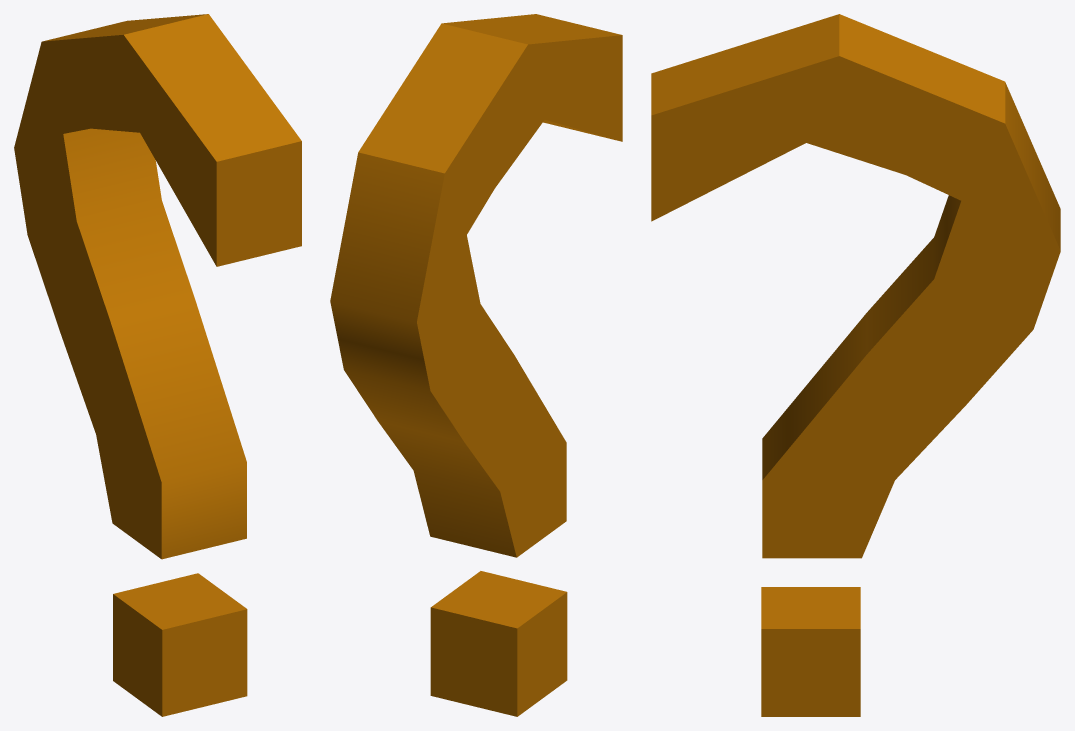
Rendered from Random.fbx.
3 views of the same model, side by side, from view 1: azimuth 30°, elevation 25°; view 2: azimuth 150°, elevation 25°; view 3: azimuth 270°, elevation 25° (orthographic).
Visible parts, largest first — view 1: Random; view 2: Random; view 3: Random.
Part boxes in pixels (x1,y1,x2,y2): Random: (14, 14, 301, 716); Random: (330, 14, 622, 716); Random: (651, 14, 1060, 716).
Size of the model in its own units: 21 by 154 by 86.5.
